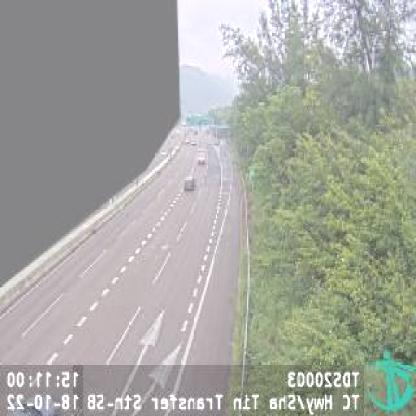Car: (184, 175, 196, 191)
